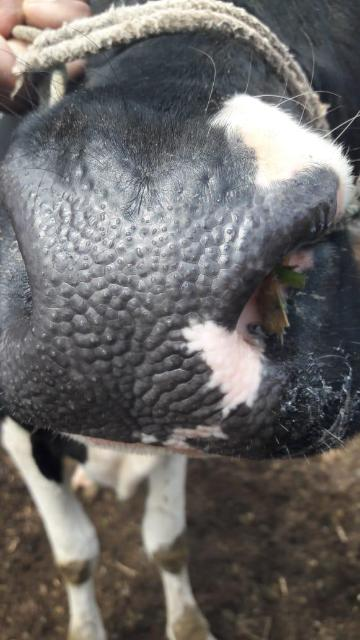Muzzle: (31, 164, 231, 430)
